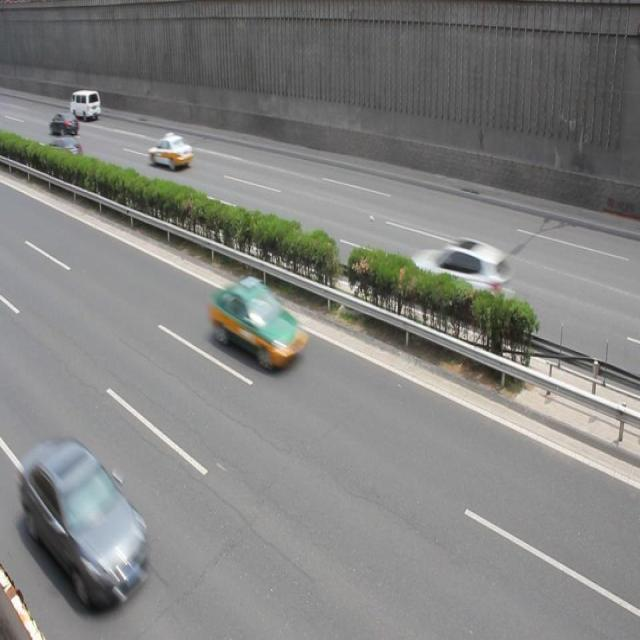car: (20, 436, 148, 596), (403, 235, 514, 329), (209, 277, 310, 370), (148, 134, 194, 172), (44, 138, 83, 170), (50, 113, 80, 138)
truck: (71, 90, 102, 122)
